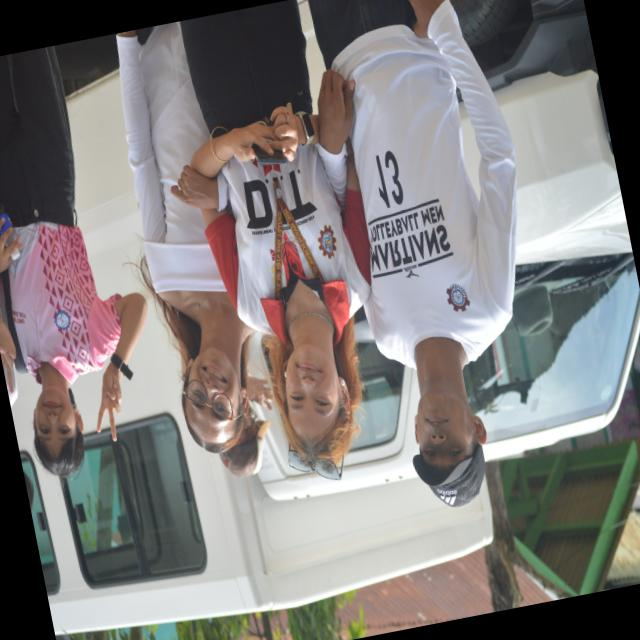person: (309, 0, 516, 505), (182, 0, 370, 478), (0, 47, 147, 476), (117, 22, 252, 451), (221, 408, 270, 476), (633, 336, 639, 370)
